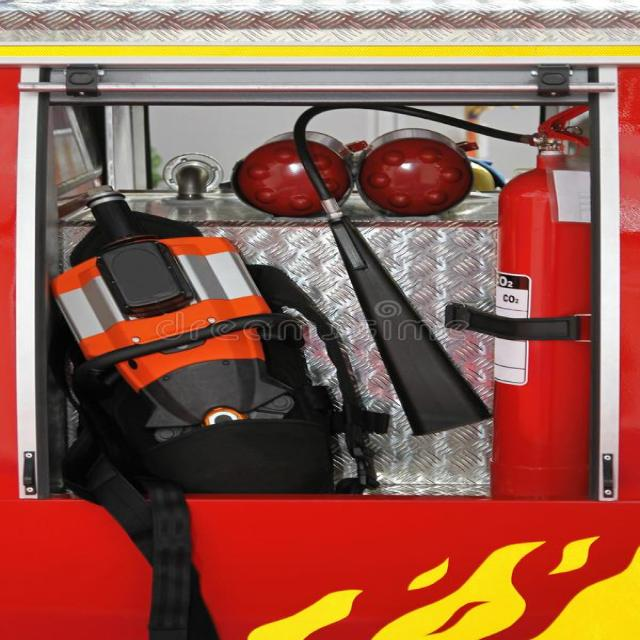fire_extinguisher: (282, 84, 639, 530)
